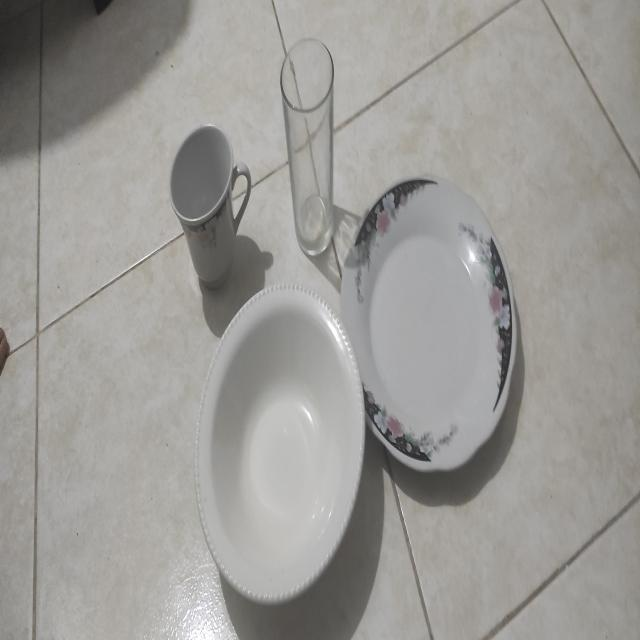non-organic waste: (187, 269, 365, 615), (340, 160, 530, 483)
